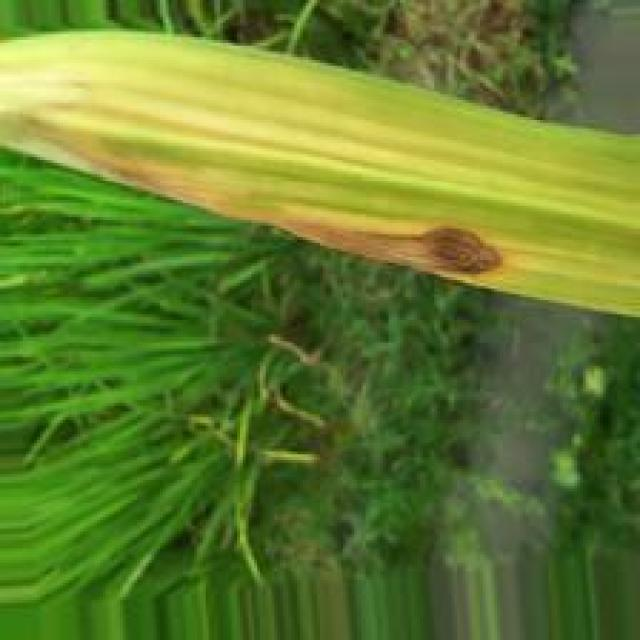Leaf_Scald: (278, 210, 512, 278)
